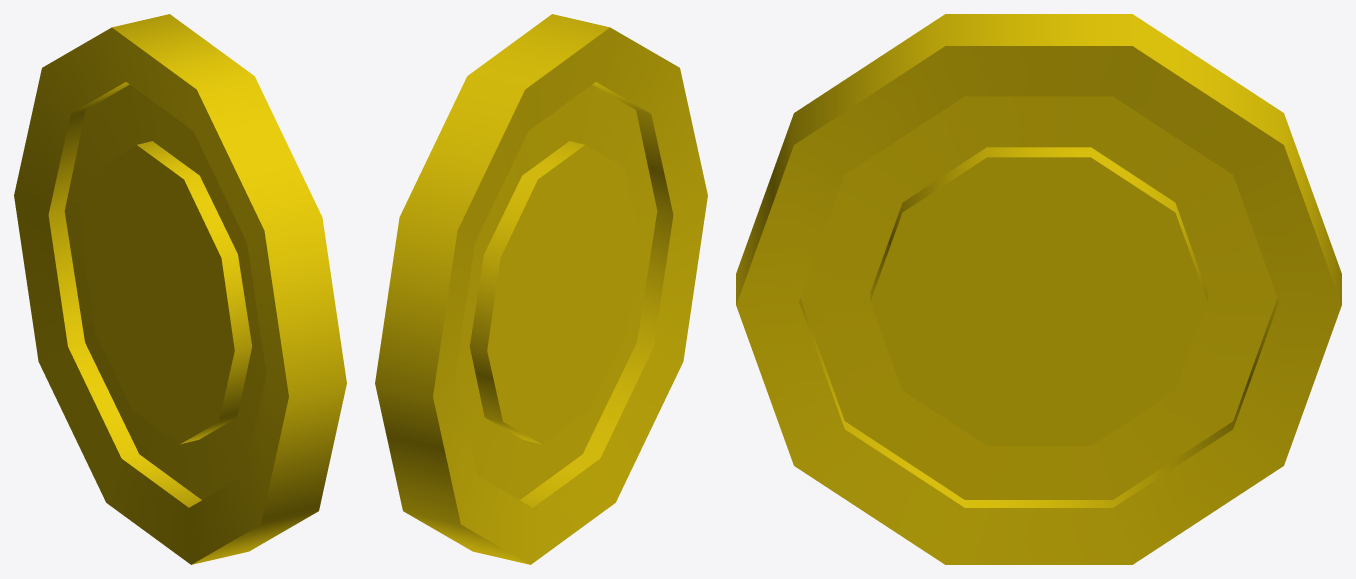
The model's file is Moneda.fbx.
3 views of the same model, side by side, from view 1: azimuth 30°, elevation 25°; view 2: azimuth 150°, elevation 25°; view 3: azimuth 270°, elevation 25° (orthographic). The views are drawn at different scales.
Visible parts, largest first — view 1: Moneda.001; view 2: Moneda.001; view 3: Moneda.001.
Part boxes in pixels (x1=…): Moneda.001: x1=14, y1=14, x2=346, y2=564; Moneda.001: x1=375, y1=14, x2=707, y2=564; Moneda.001: x1=736, y1=14, x2=1341, y2=564.
Size of the model in its own units: 63.37 by 452 by 475.
